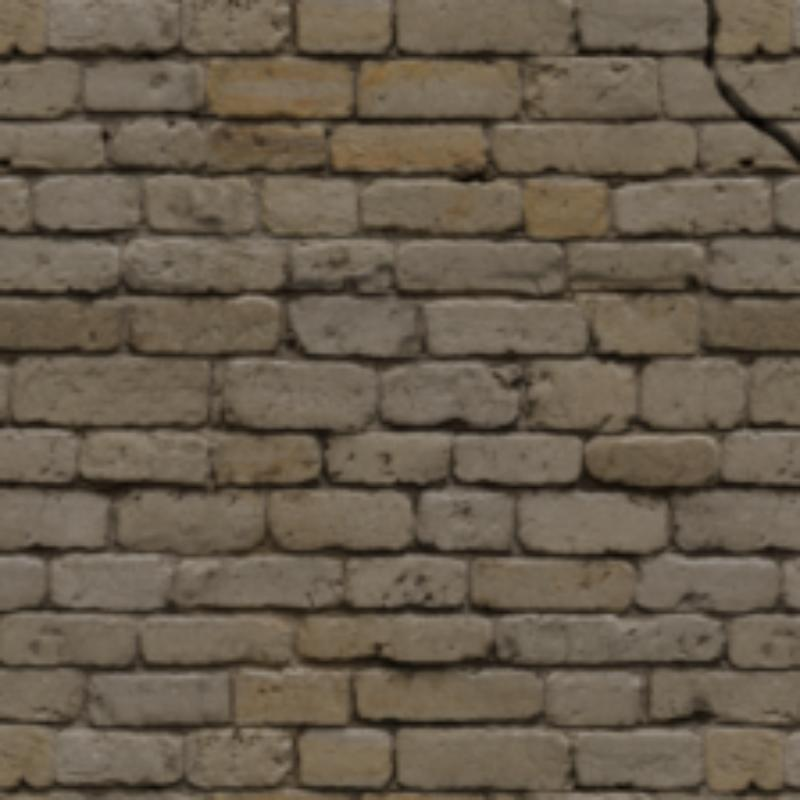pothole: (704, 0, 796, 161)
